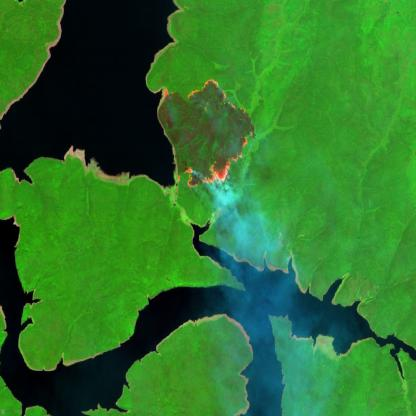fire: (154, 70, 258, 191)
